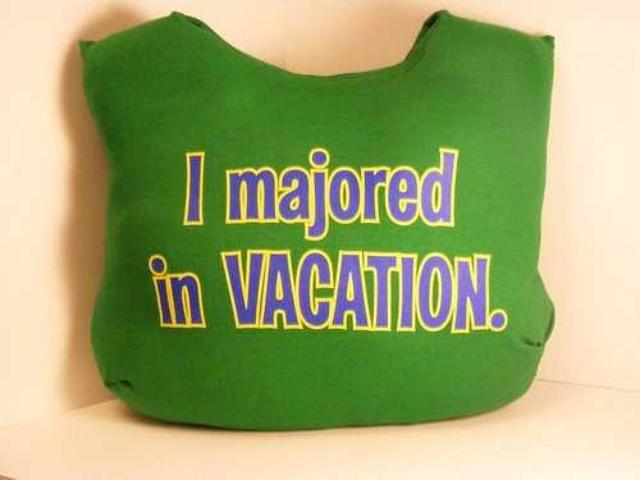pillow: (77, 7, 557, 431)
